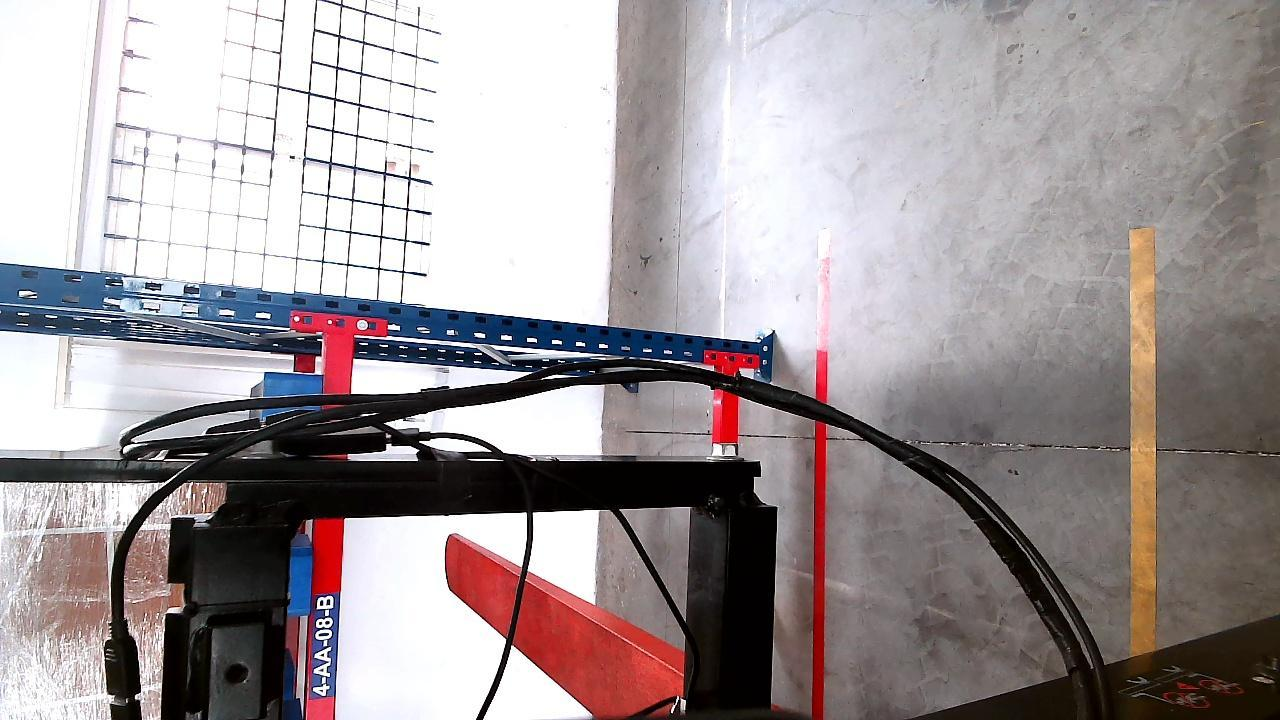red_line: (808, 230, 828, 719)
yellow_line: (1130, 221, 1159, 664)
